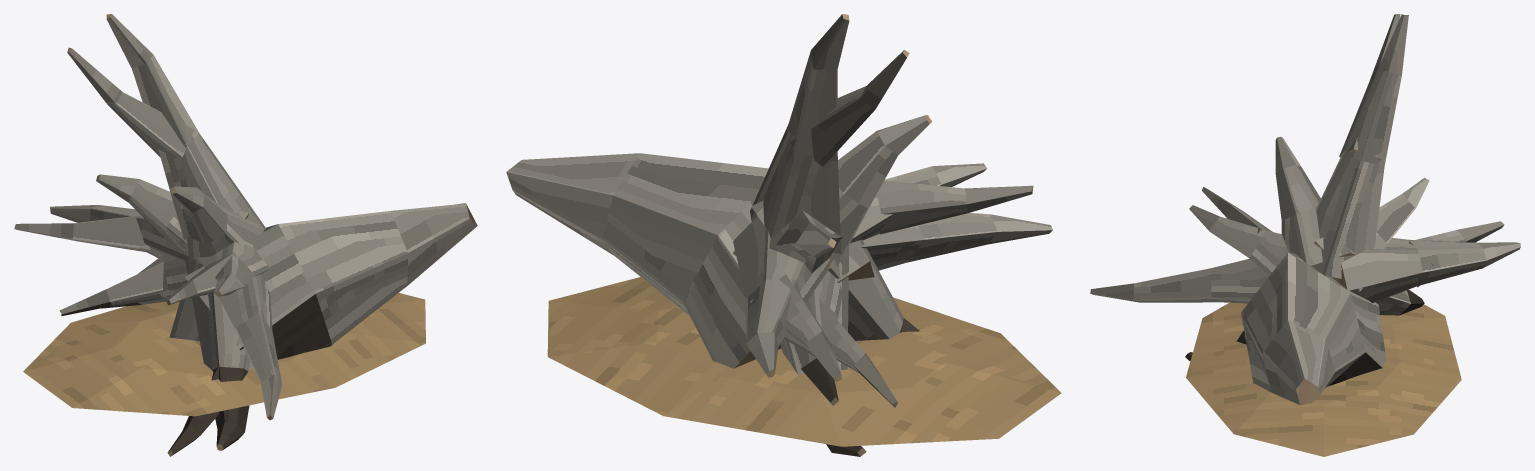
File: loose-root-plate.glb
3 renders of one model, left to right at view 1: azimuth 30°, elevation 25°; view 2: azimuth 150°, elevation 25°; view 3: azimuth 270°, elevation 25°, orthographic. The views are drawn at different scales.
Visible parts, largest first — view 1: loose-root-plate; view 2: loose-root-plate; view 3: loose-root-plate.
Boxes of the visible parts, x1,y1,x2,y2 form: loose-root-plate: [14, 14, 477, 456]; loose-root-plate: [506, 14, 1061, 456]; loose-root-plate: [1090, 14, 1520, 456].
Size of the model in its own units: 3.28 by 2.73 by 3.01.
4 materials, 4 textured.
